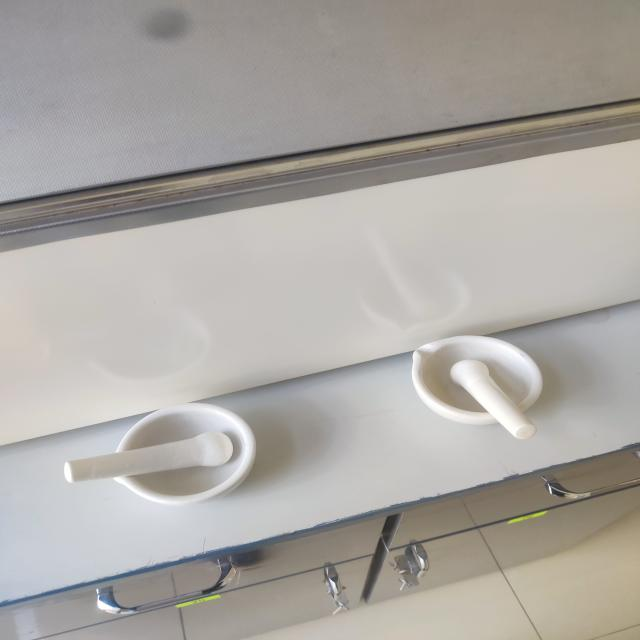Porcelain_Mortar Pestle: (35, 368, 297, 528), (395, 312, 575, 468)
